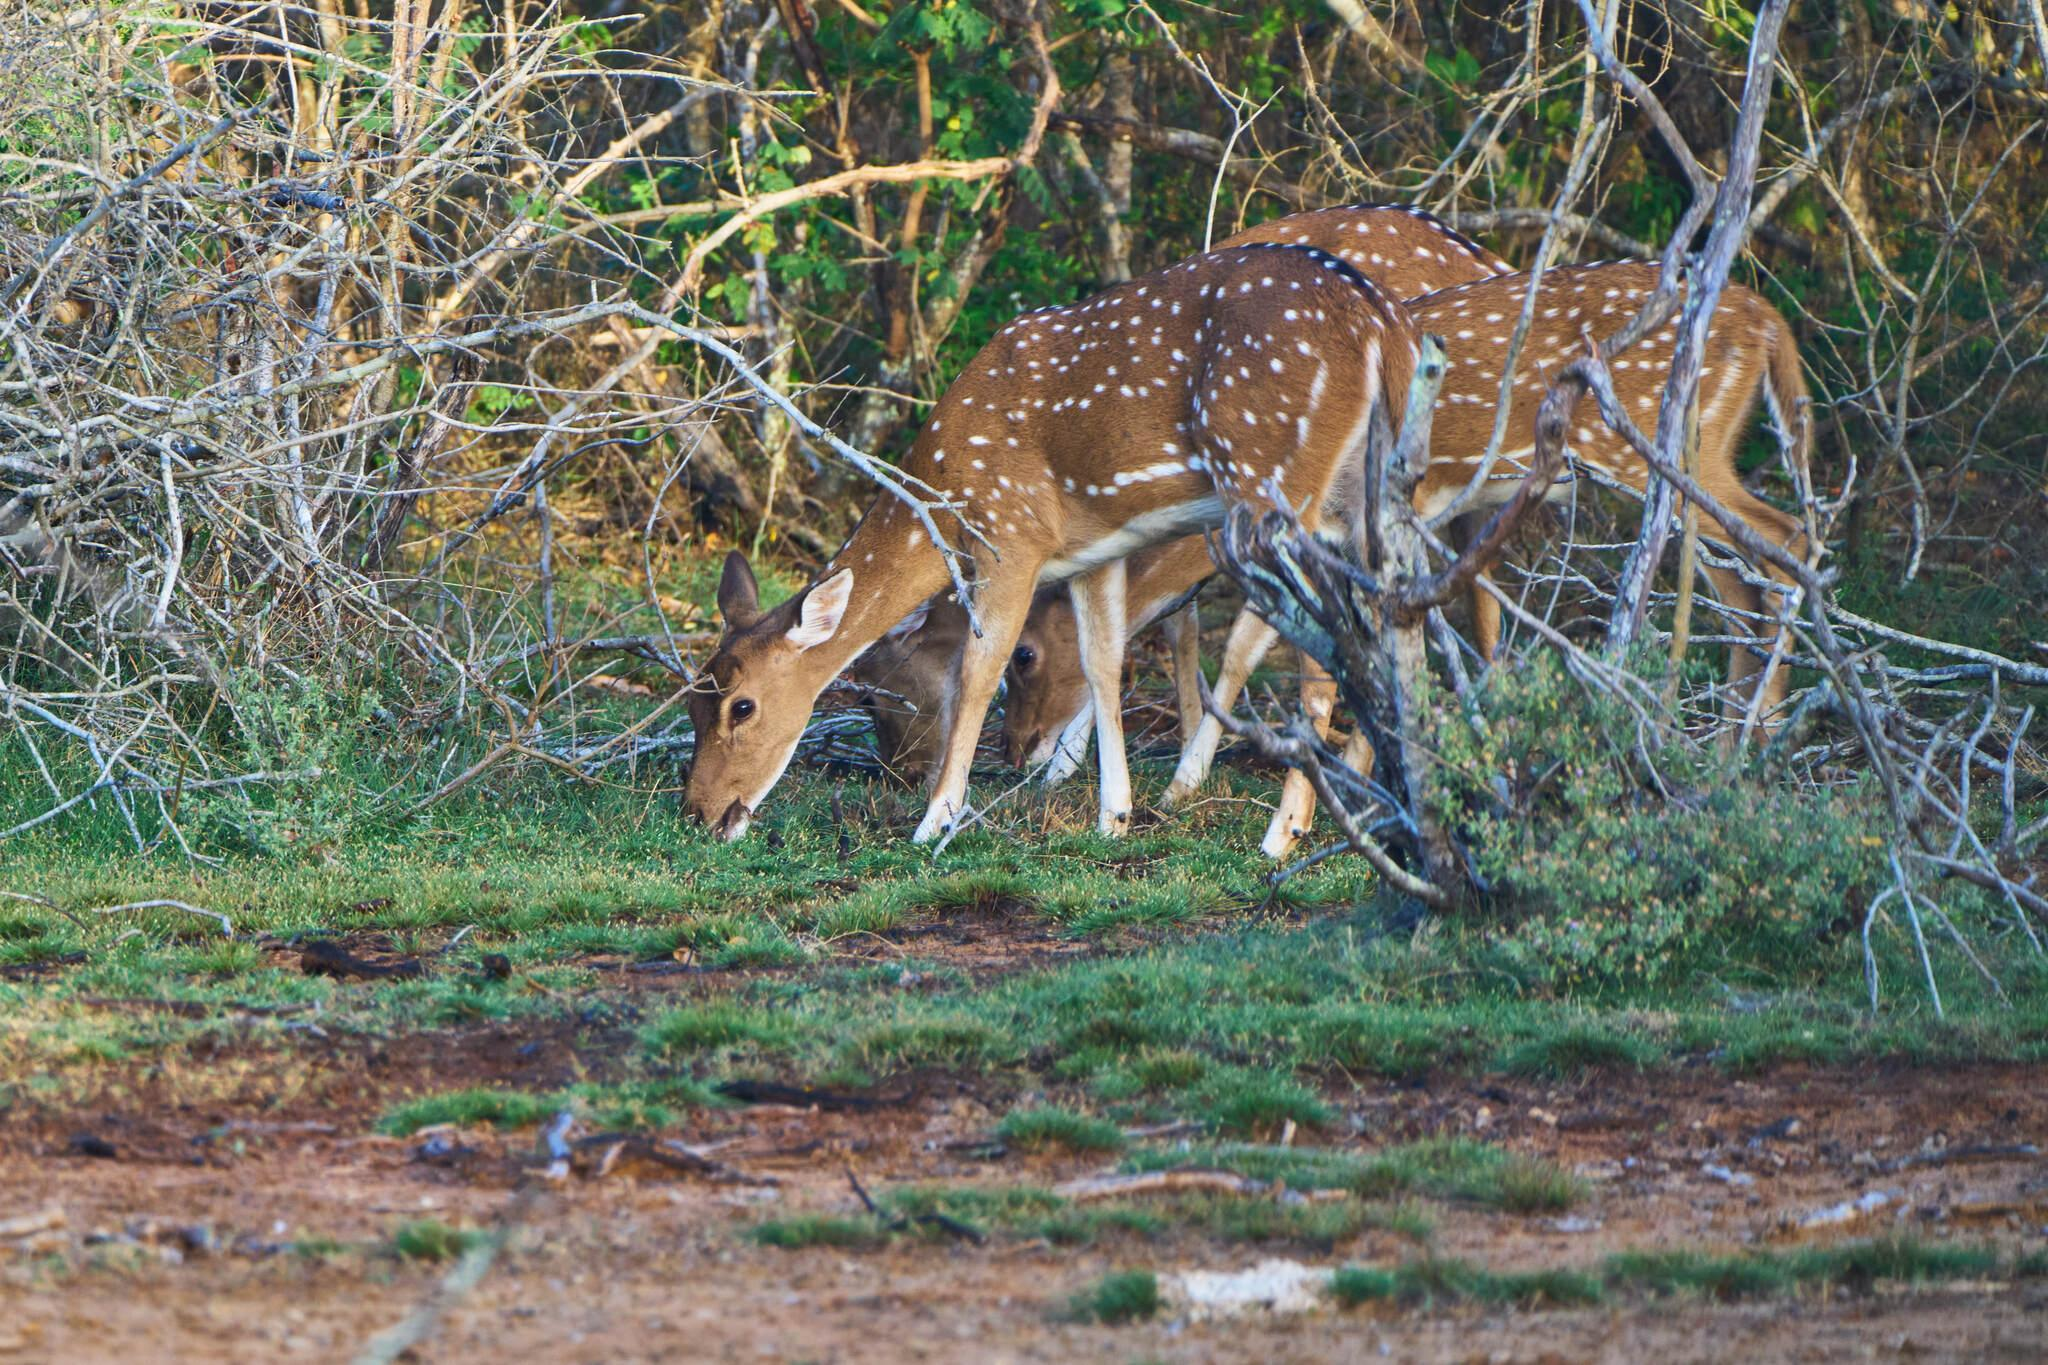Deer: (687, 244, 1422, 841), (1217, 206, 1512, 299)
